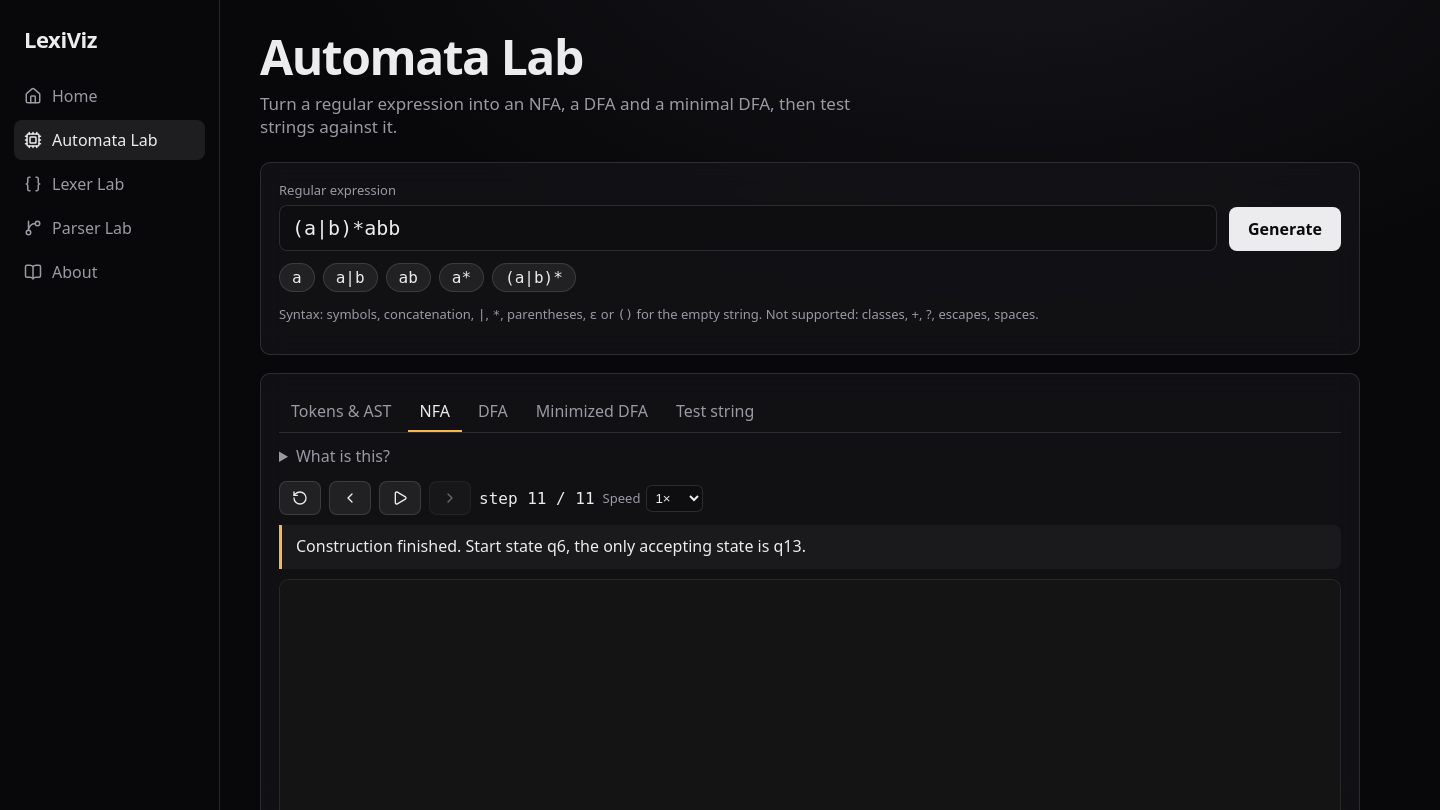
Automata Lab UI › empty input shows a helpful message instead of crashing
Clear the field labelled "Regular expression" at (748, 228), box [279, 205, 1217, 251]
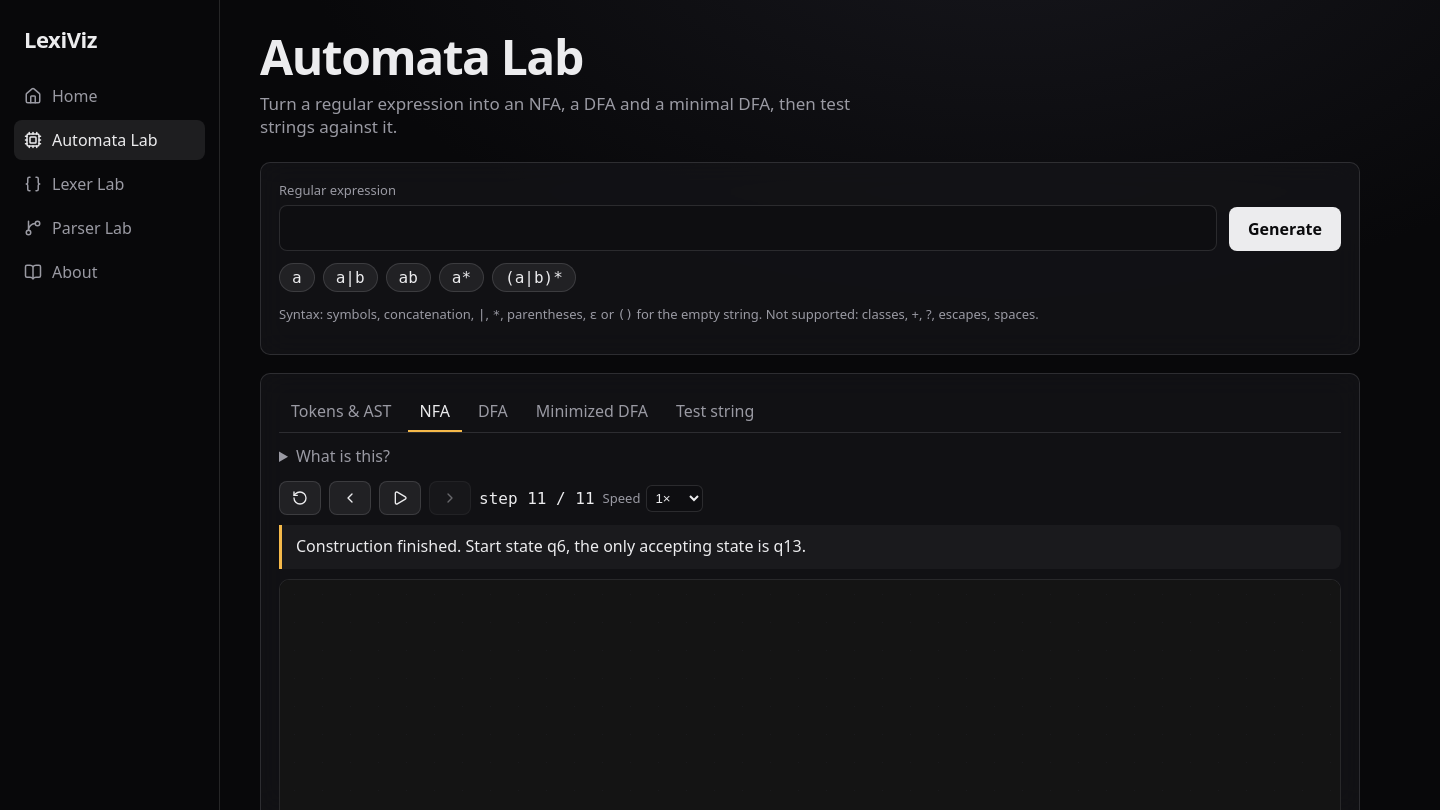
Click the button "Generate".
click(1285, 229)  # box [1229, 207, 1341, 251]
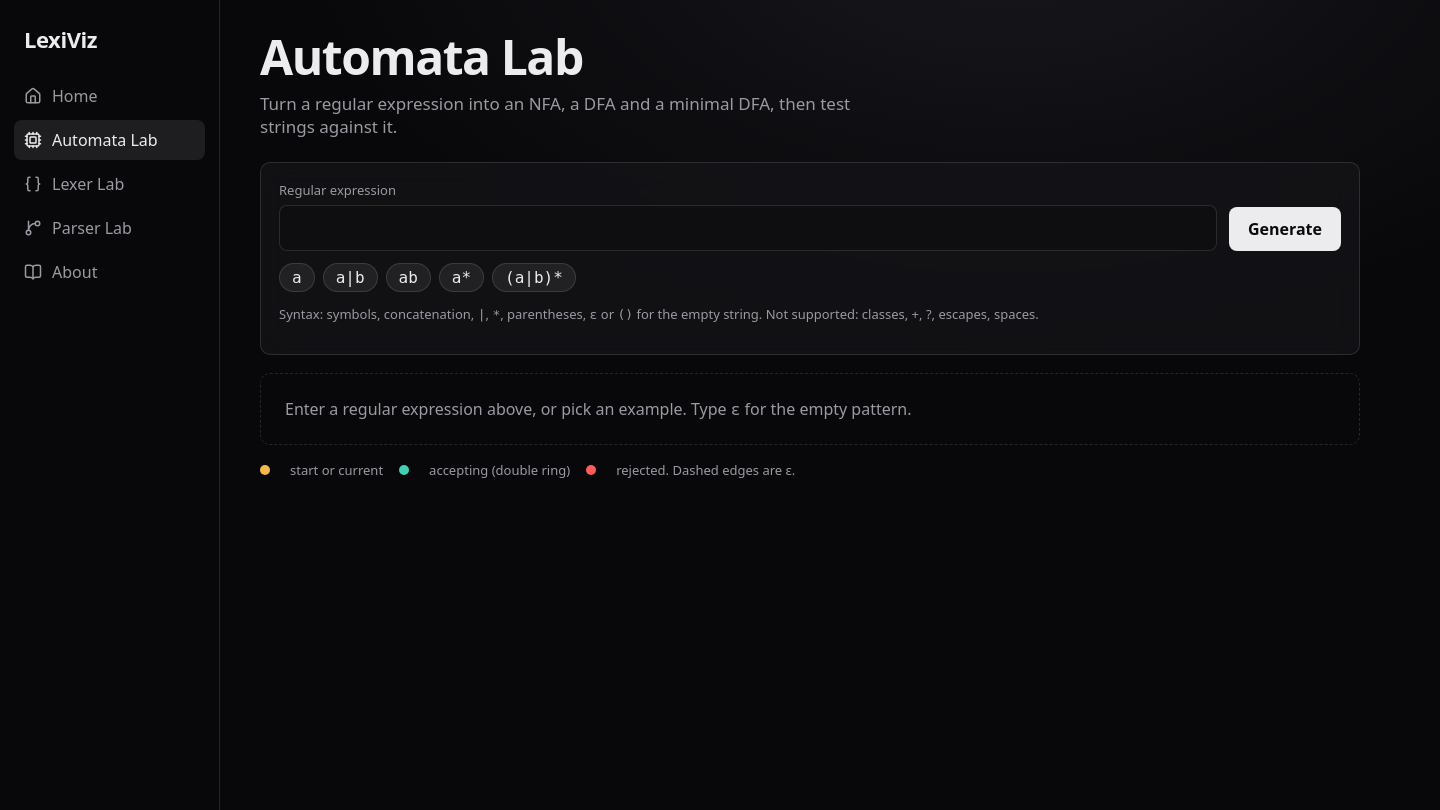
Expected: the message shows "Enter a regular expression", [285, 398, 731, 420]
